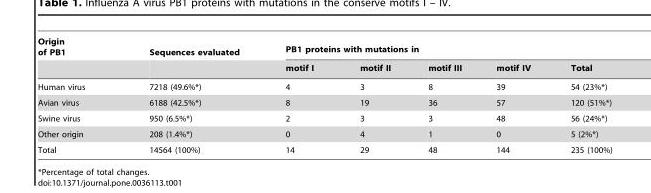table: (36, 36, 611, 154)
table column: (116, 36, 261, 154), (36, 36, 116, 154), (261, 36, 336, 154), (336, 36, 408, 154), (478, 36, 549, 154), (408, 36, 478, 154), (549, 36, 611, 154)
table column header: (36, 36, 611, 77)
table row: (36, 36, 611, 59), (36, 59, 611, 77), (36, 77, 611, 94), (36, 94, 611, 110), (36, 110, 611, 126), (36, 126, 611, 141), (36, 141, 611, 154)
table spanning cell: (261, 36, 611, 59), (116, 36, 261, 77), (36, 36, 116, 77)
